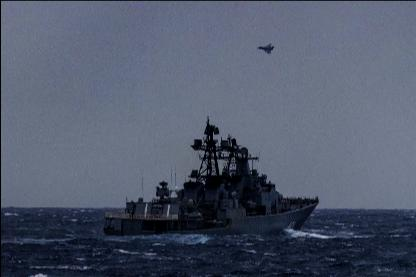E2: (256, 43, 274, 53)
